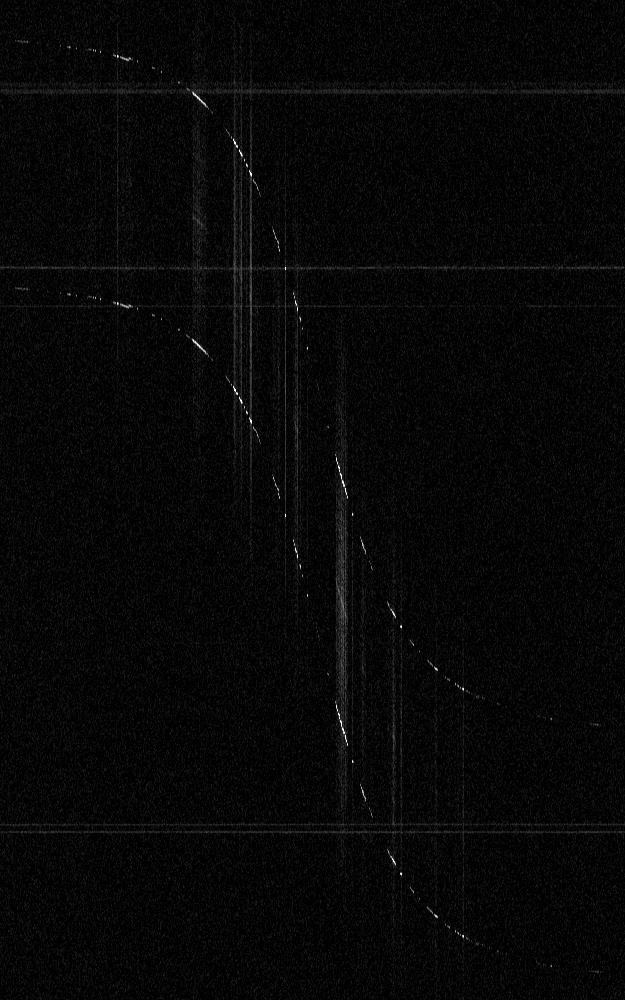signal: (0, 0, 624, 999)
